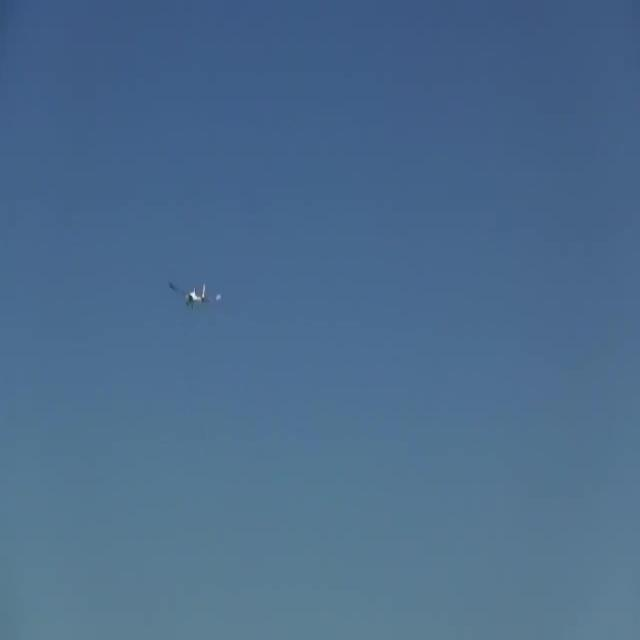iha: (166, 277, 222, 311)
